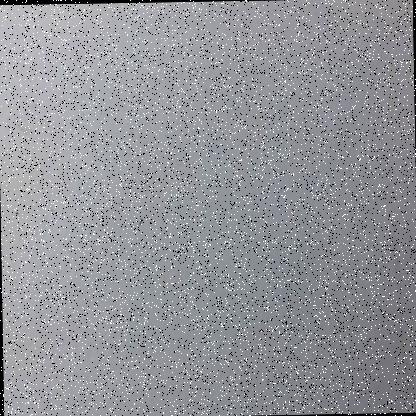Nocrack: (5, 4, 415, 409)
